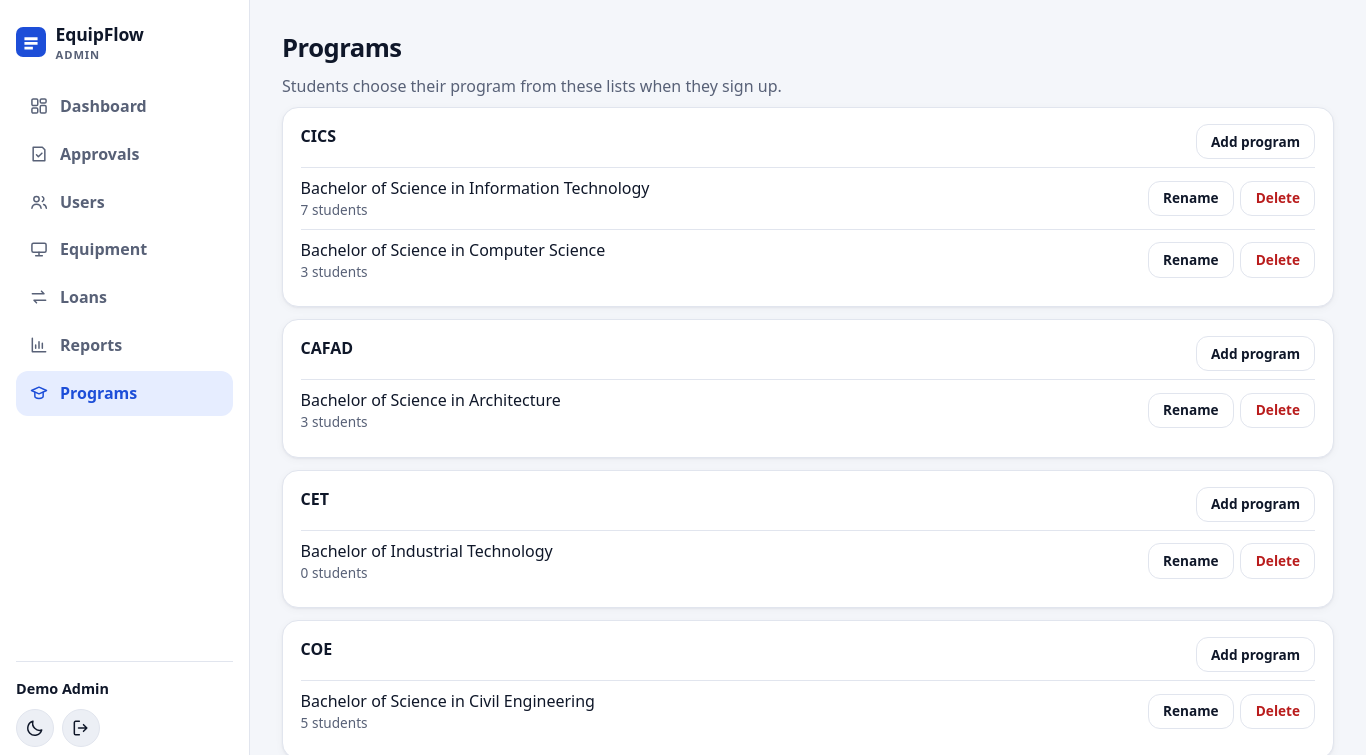
Test: Programs › deletes a program nobody uses without asking where students go
Click the button with aria-label "Delete Bachelor of Industrial Technology". click: (1278, 561)
box: x1=1240 y1=544 x2=1315 y2=579
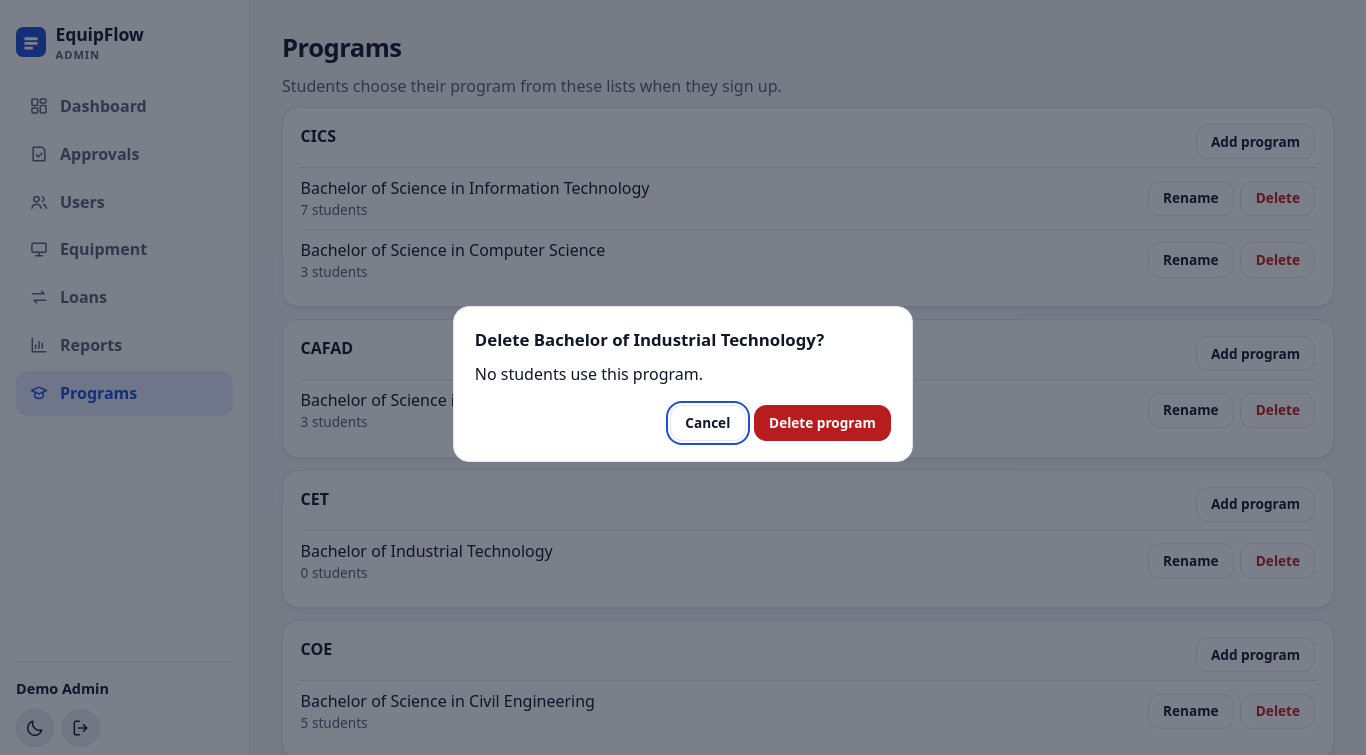
Check: the dialog shows "No students use this program.", box x1=475 y1=363 x2=703 y2=385
Click the button "Delete program". click: (822, 423)
box: x1=754 y1=405 x2=891 y2=441
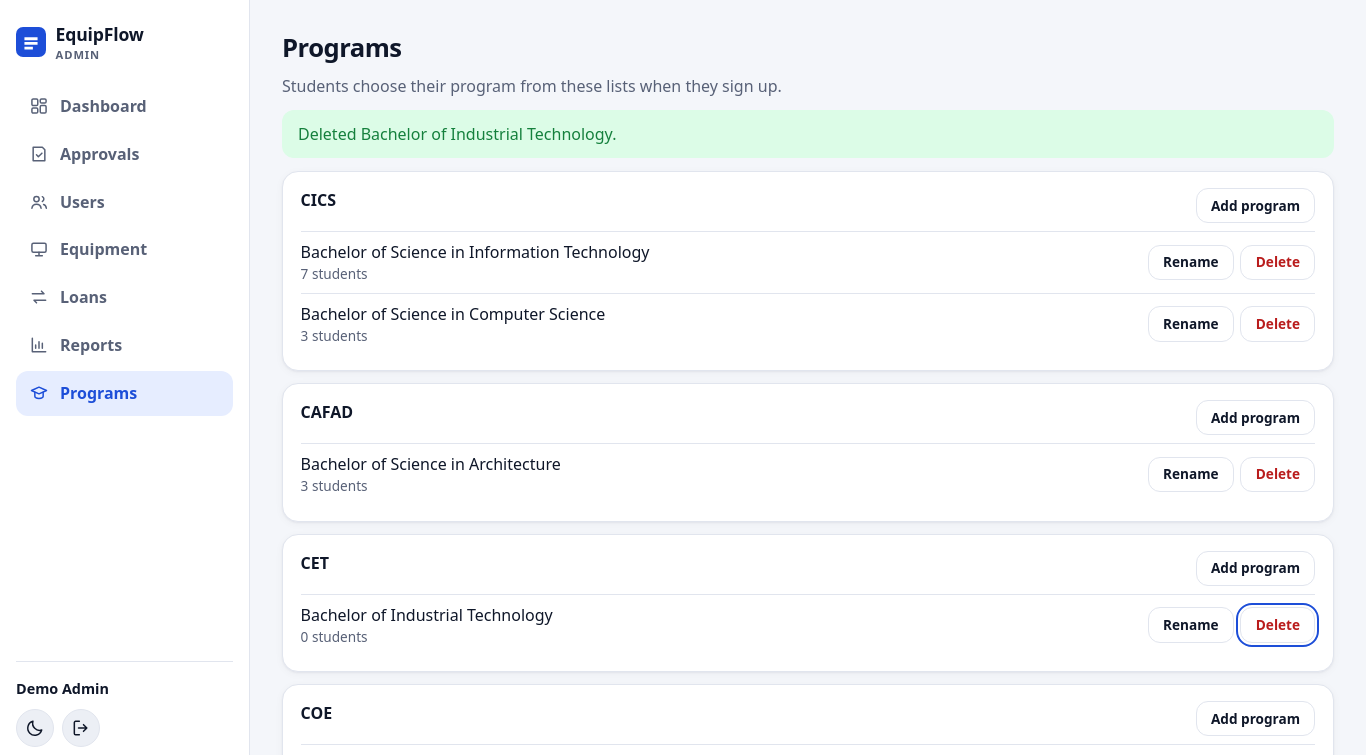
Check: the message reads "Deleted Bachelor of Industrial Technology.", box x1=298 y1=123 x2=616 y2=145
